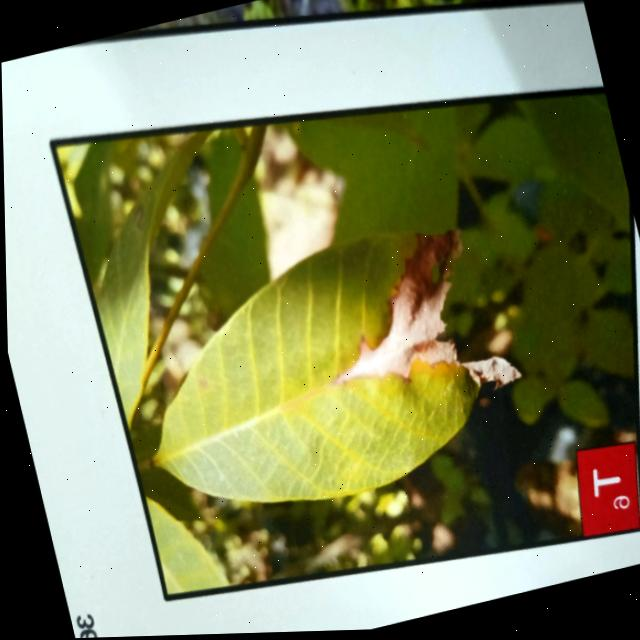Leaf-Blight: (303, 217, 521, 428)
